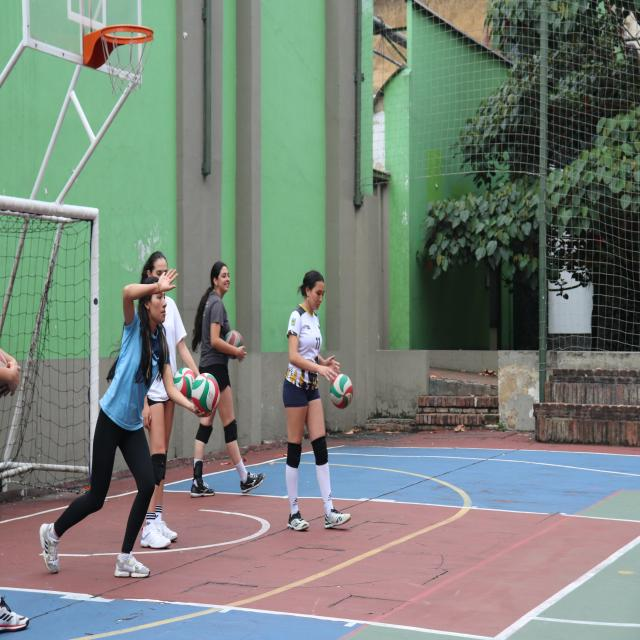volleyball: (192, 372, 220, 416), (173, 366, 197, 401), (330, 374, 353, 409), (224, 330, 244, 348)
